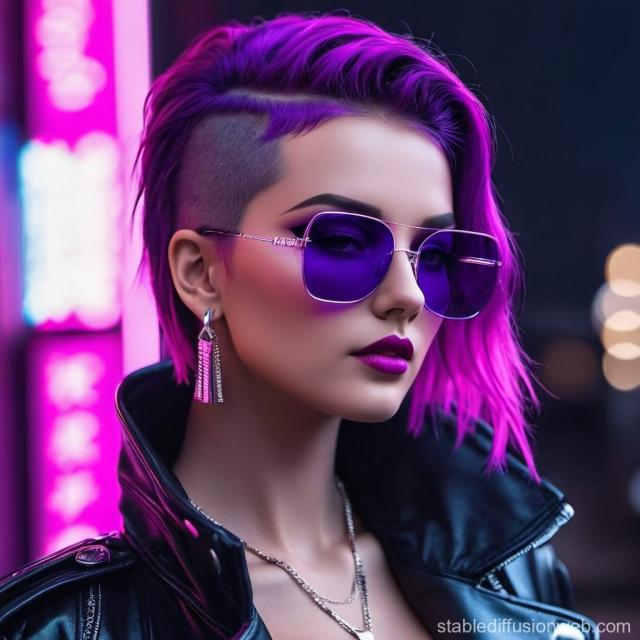front: (256, 156, 483, 392)
